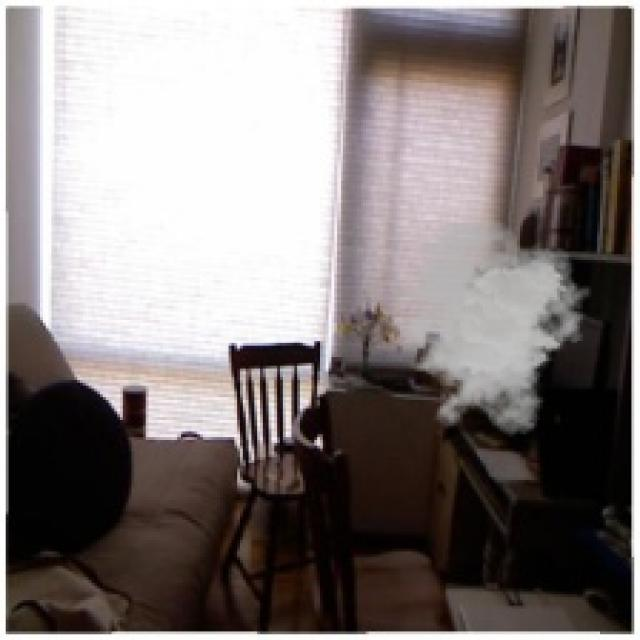smoke: (377, 217, 592, 437)
